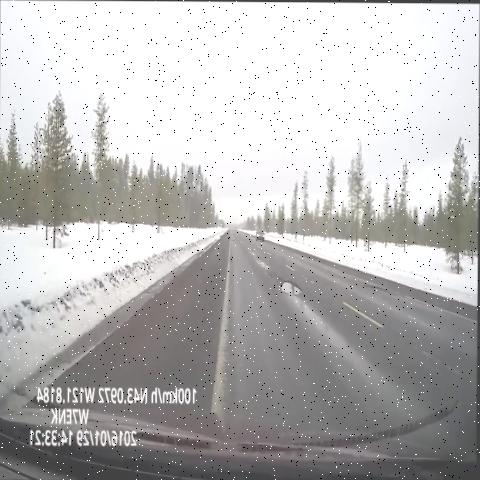pothole: (267, 264, 312, 306), (224, 232, 236, 247)
